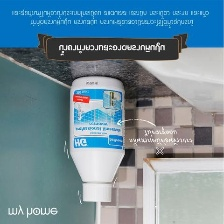cleaning_solution: (65, 72, 127, 203)
